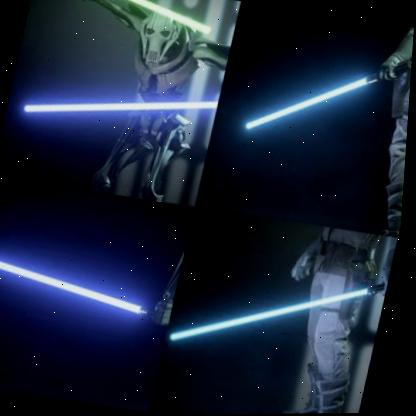lightsaber: (164, 240, 392, 381), (237, 33, 414, 159), (3, 64, 222, 151), (0, 241, 185, 334), (40, 0, 221, 46)
person: (245, 216, 399, 414)
